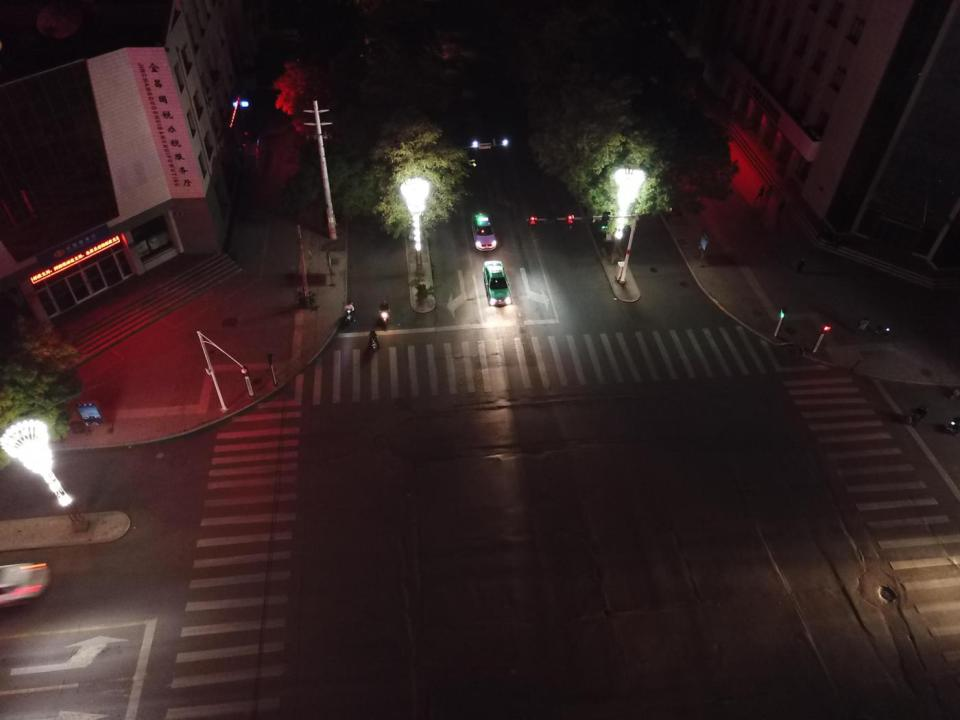car: (1, 561, 50, 610), (482, 260, 512, 308), (469, 210, 498, 250)
